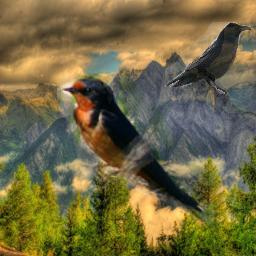Crow: (165, 22, 252, 94)
Swallow: (57, 72, 217, 227)
